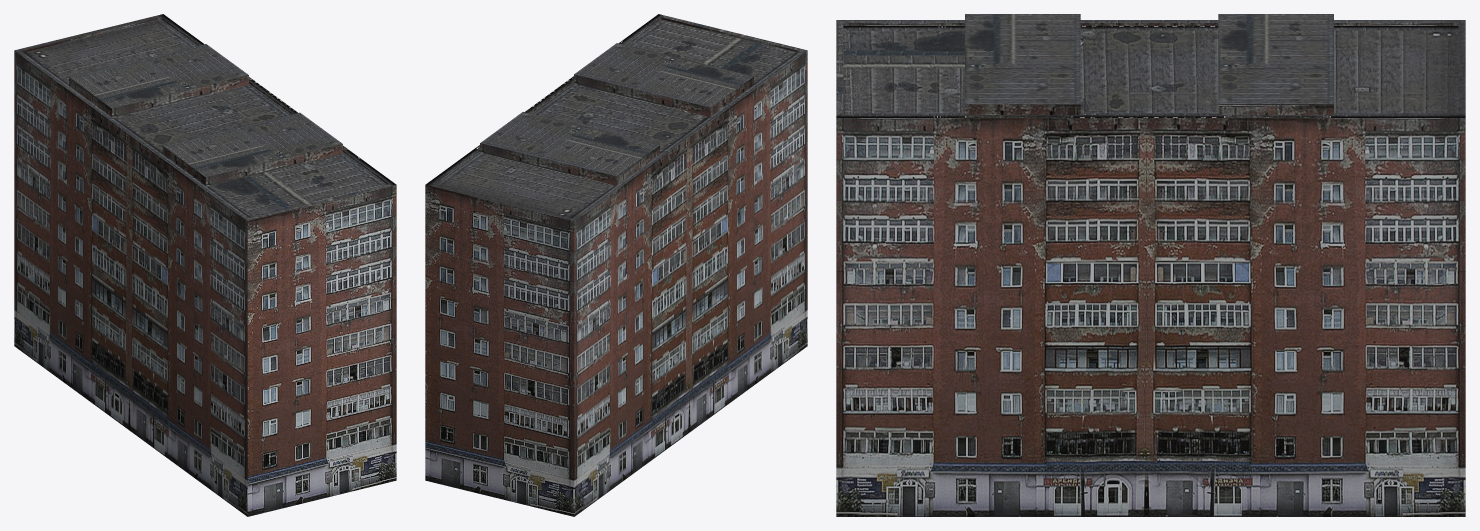
File: sibir_dom_9et.FBX
3 views of the same model, side by side, from view 1: azimuth 30°, elevation 25°; view 2: azimuth 150°, elevation 25°; view 3: azimuth 270°, elevation 25° (orthographic). The views are drawn at different scales.
Parts seen in each view (by area): view 1: sibir_dom_9et; view 2: sibir_dom_9et; view 3: sibir_dom_9et.
Boxes of the visible parts, box(x1,y1,x2,y2) form: sibir_dom_9et: box(14, 14, 396, 516); sibir_dom_9et: box(425, 14, 807, 516); sibir_dom_9et: box(836, 14, 1465, 516).
Bounding box in the file's own units: 1218 × 3303 × 2368.
